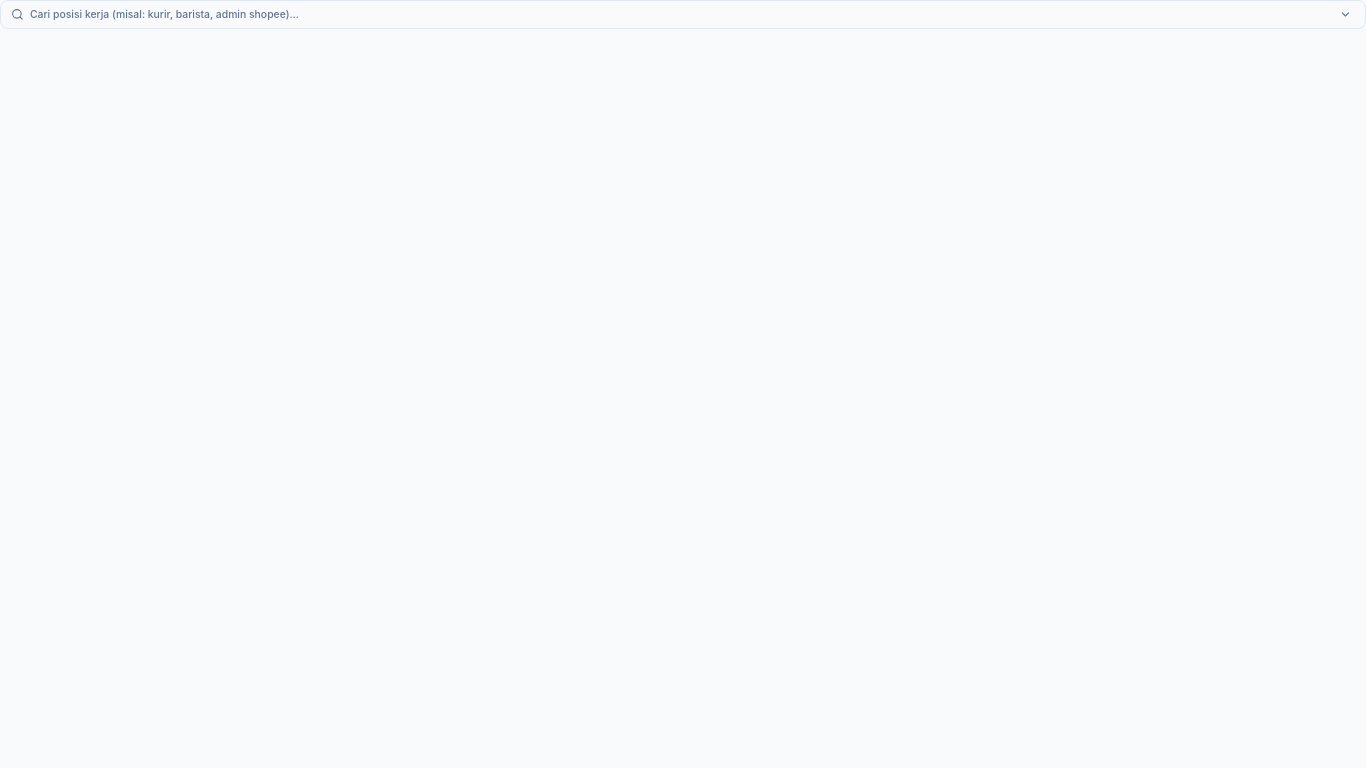
Test case: JobTitleSearchSelect › renders mobile bottom sheet when matchMedia matches mobile
This screenshot has width=1366, height=768.
Later steps or results of the test are not shown.
Click trigger box to open mobile bottom sheet
Step 1. Click the dropdown → (698, 14), box [30,1,1365,28]
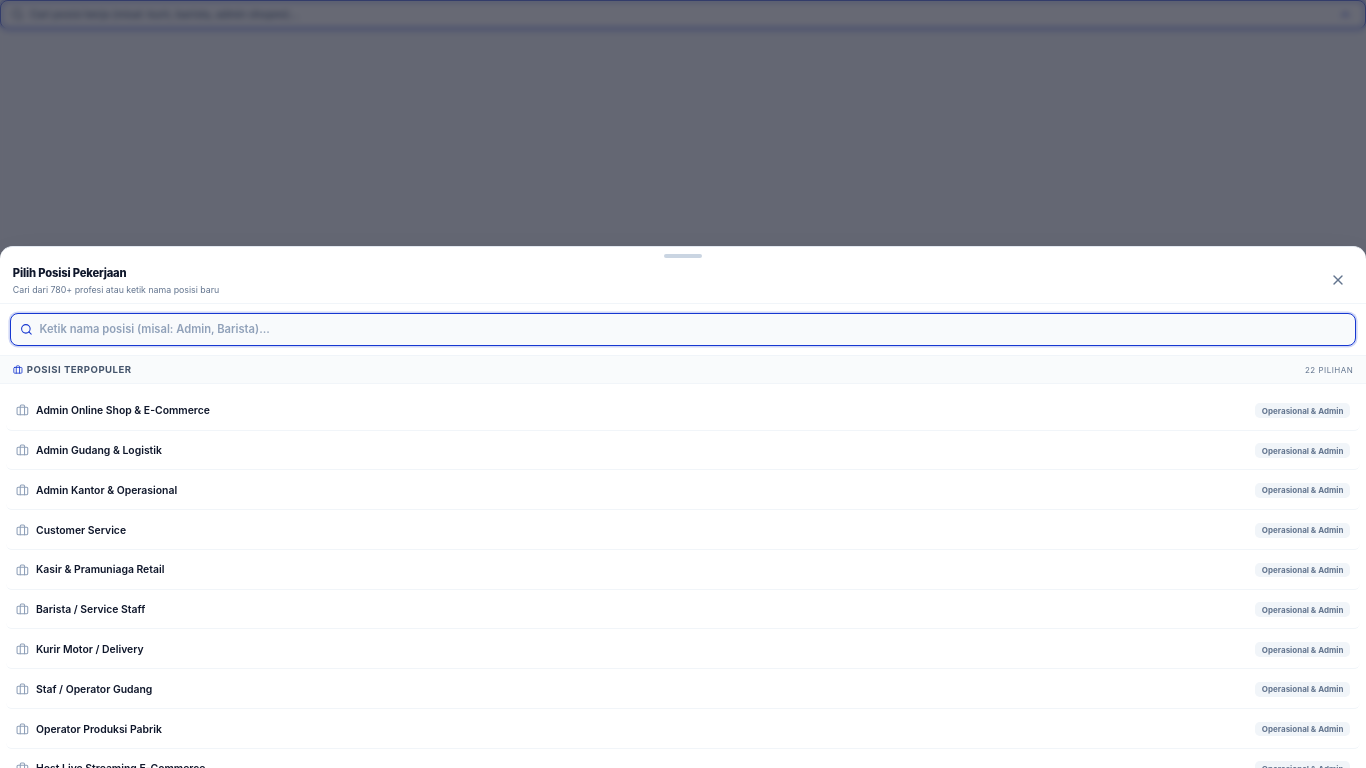
Expected: the dialog "Pilih Posisi Pekerjaan" is shown
Expected: the field with placeholder "Ketik nama posisi (misal: Admin, Barista)..." is shown
Test searching in sheet
Step 2. Type "Barista" into the field with placeholder "Ketik nama posisi (misal: Admin, Barista)..." → (698, 330), box [40,314,1355,345]
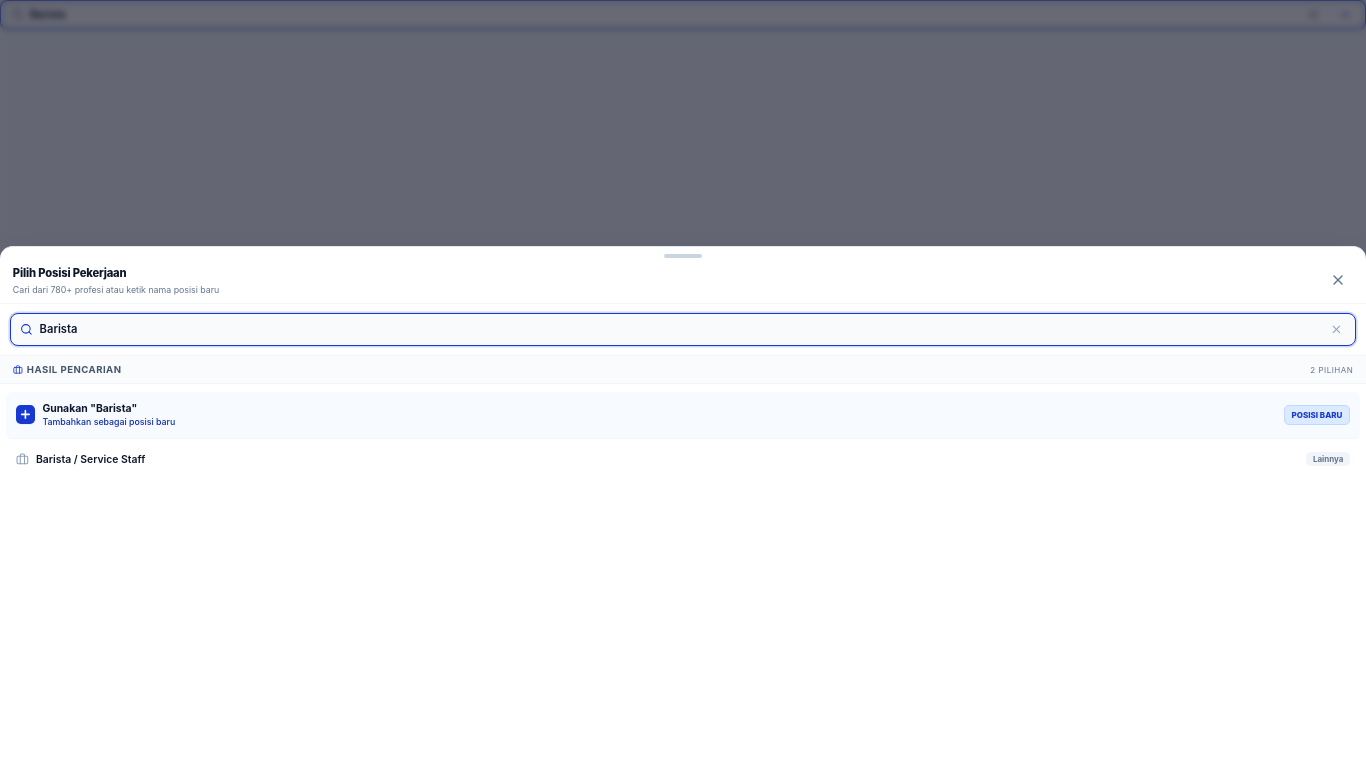
Expected: the button "Gunakan \"Barista\" Tambahkan sebagai posisi baru Posisi Baru" is shown, [6,392,1360,438]
